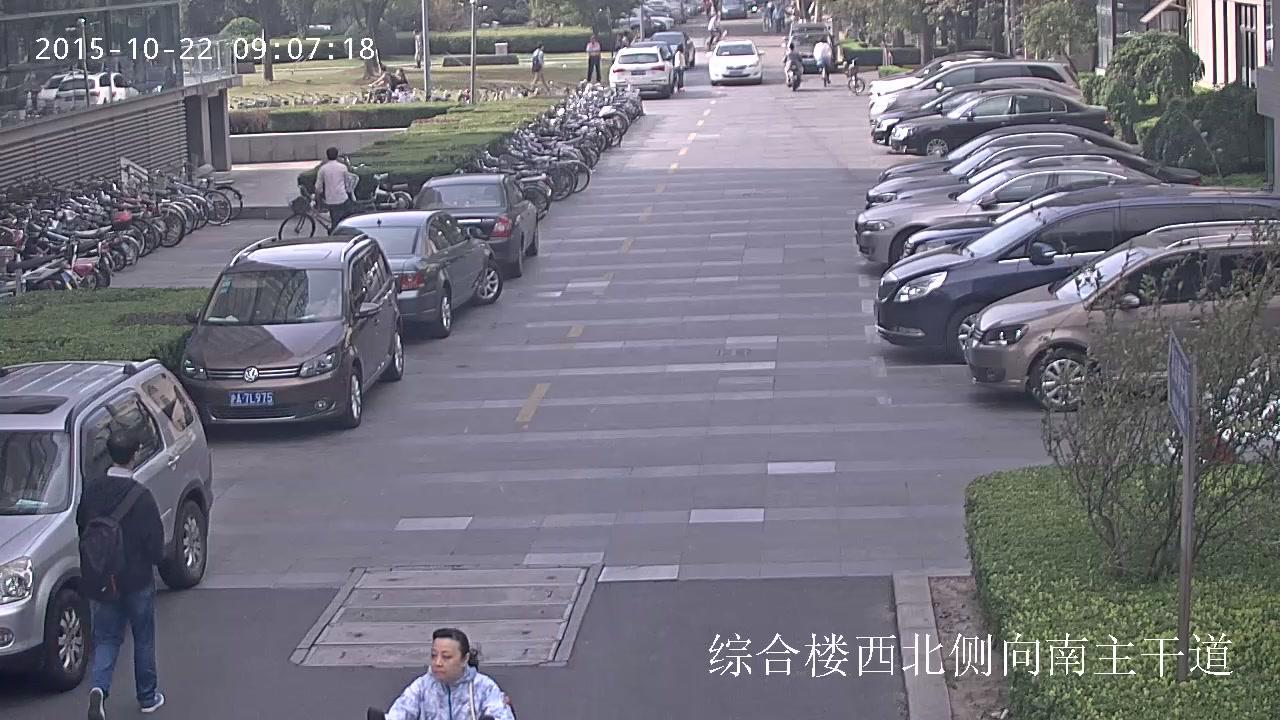face: (430, 637, 463, 680), (395, 69, 400, 75), (591, 35, 595, 41), (540, 45, 544, 49), (378, 68, 382, 72), (717, 12, 720, 17)
